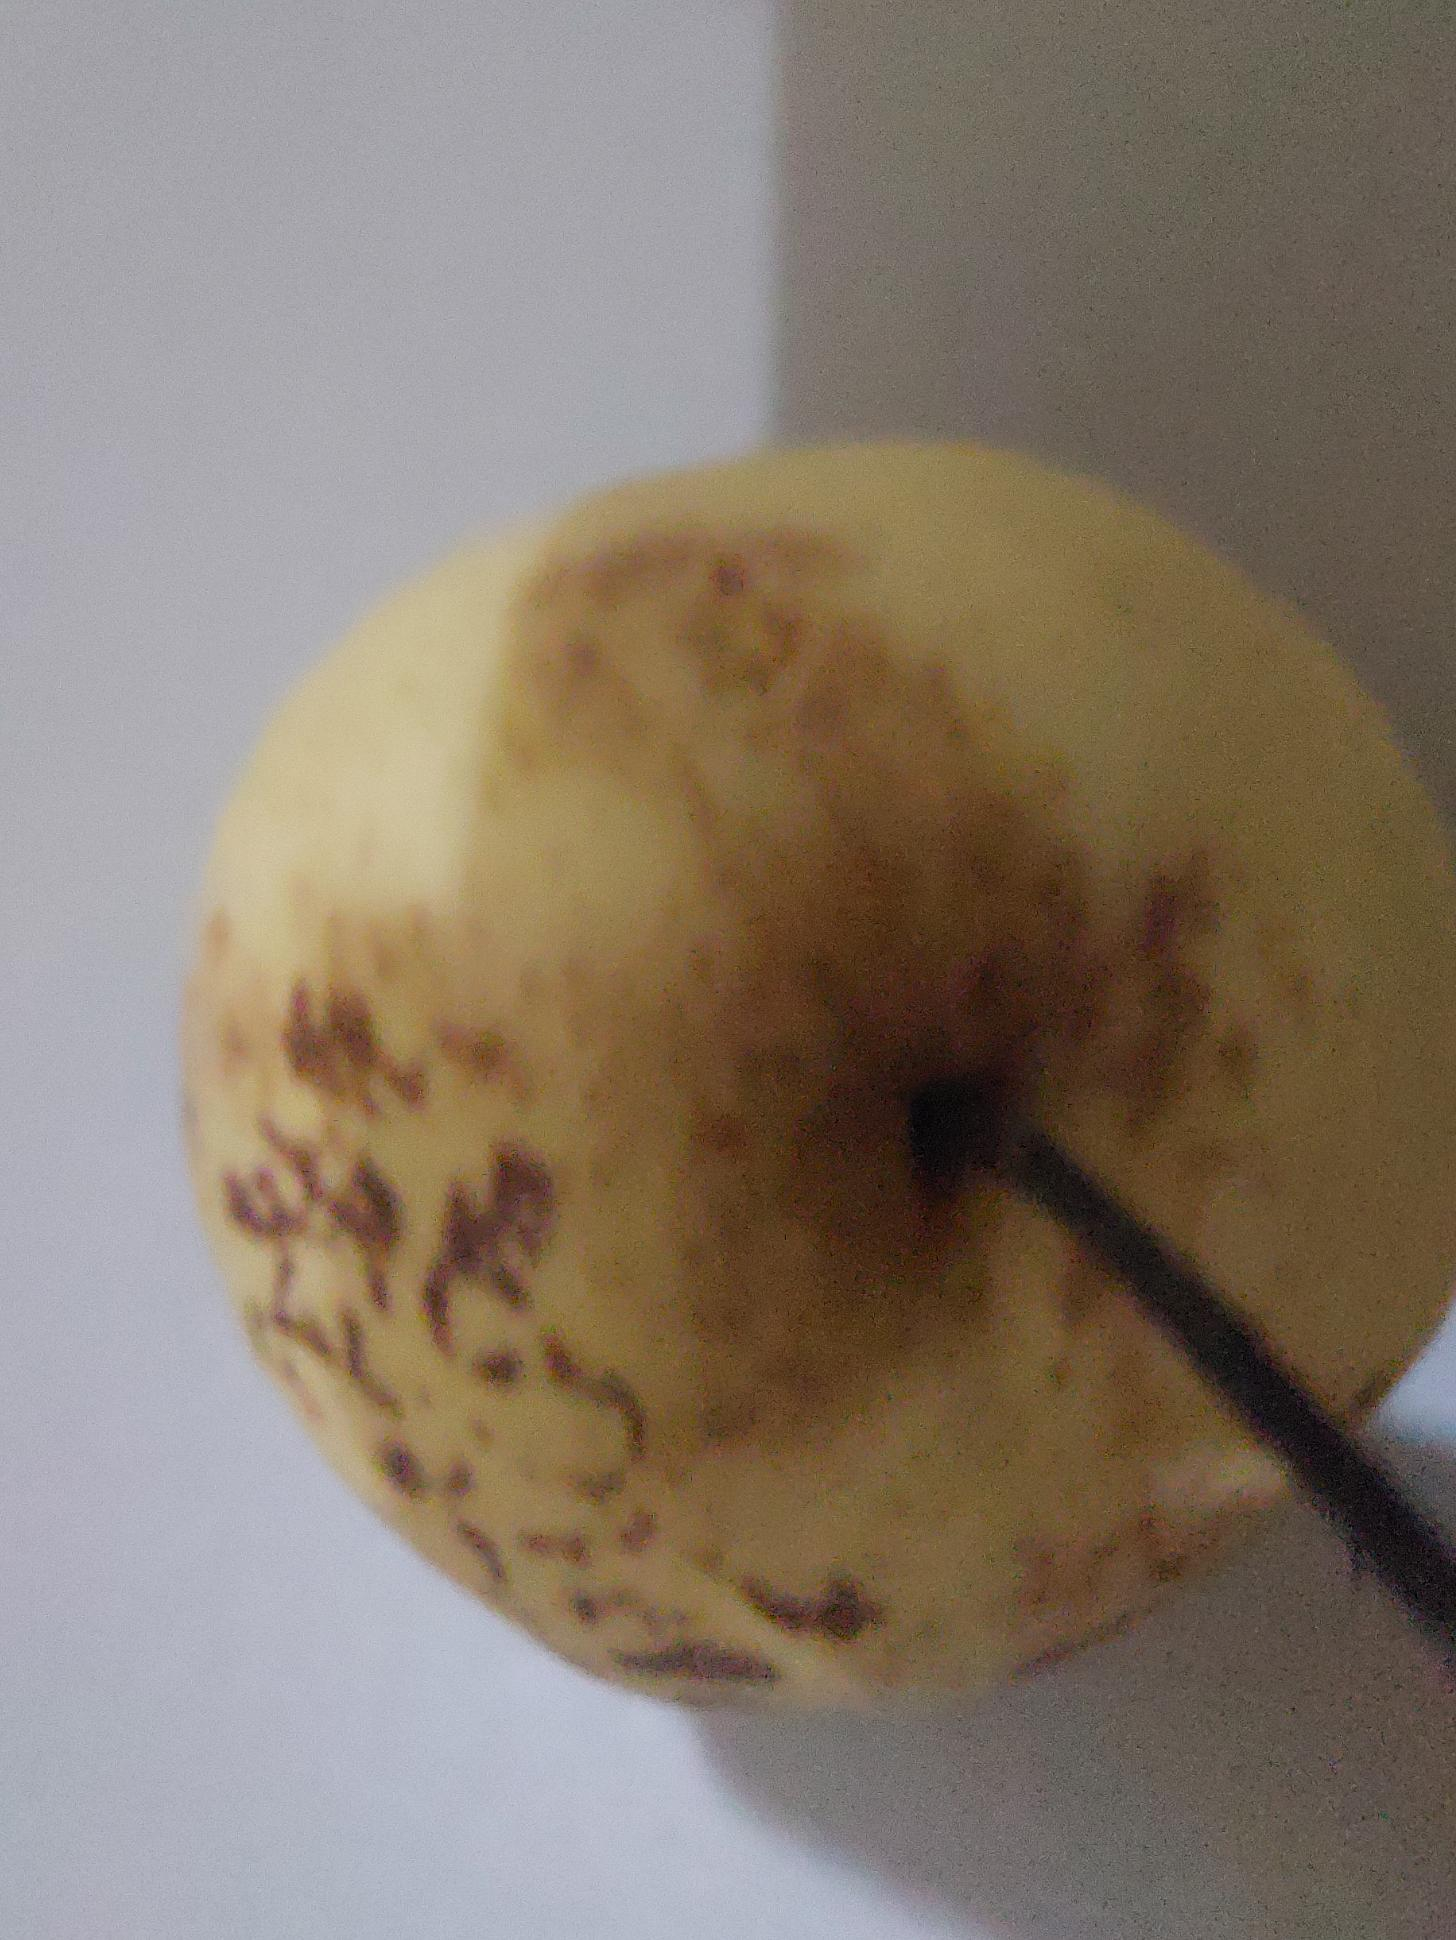Bad Pear: (161, 449, 1456, 1672)
